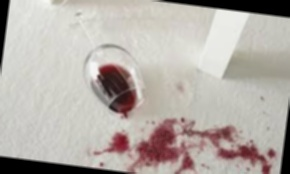wine: (101, 105, 198, 174), (198, 118, 278, 174)
